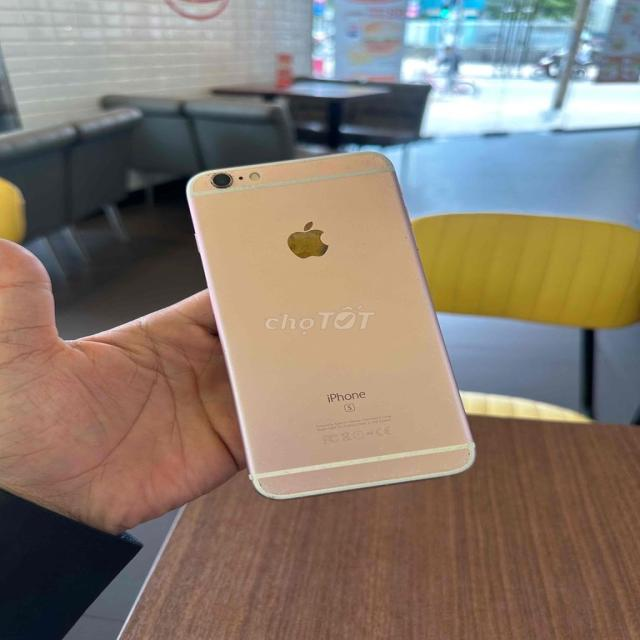gen_6: (181, 141, 506, 508)
